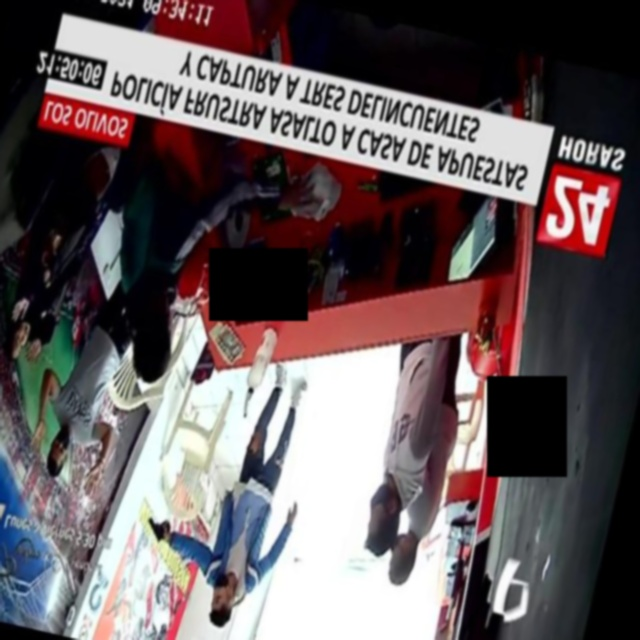gun: (133, 497, 181, 557)
